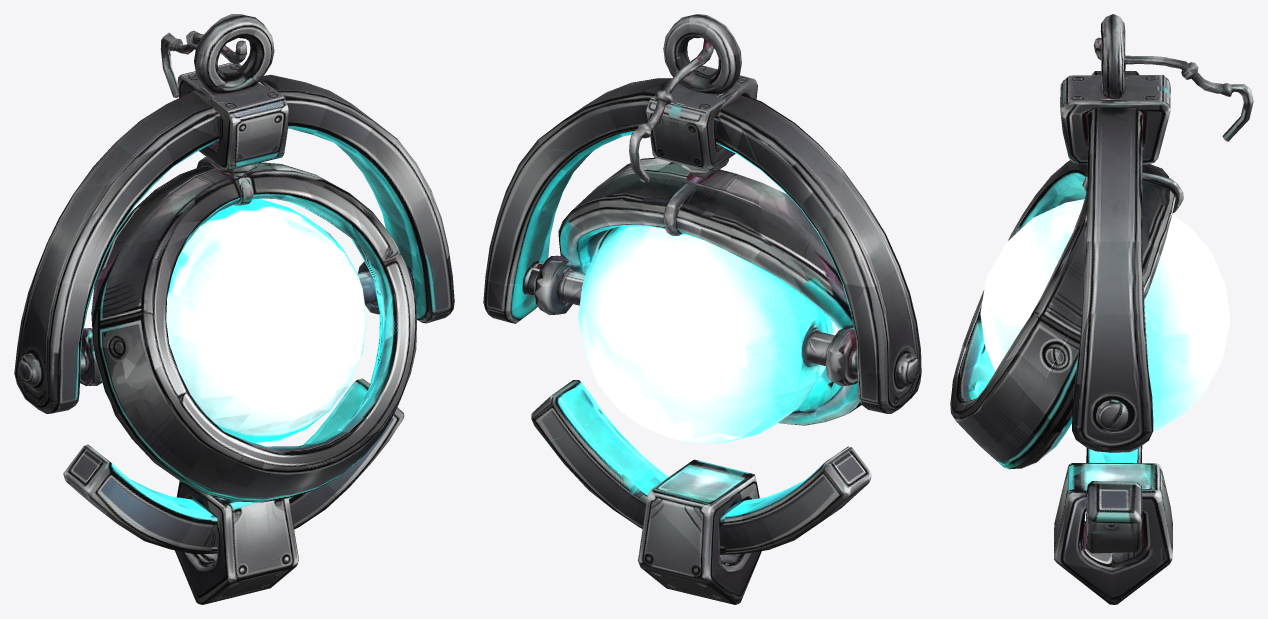
The model's file is magnetar.glb.
The picture shows the model from 3 angles, left to right: view 1: azimuth 30°, elevation 25°; view 2: azimuth 150°, elevation 25°; view 3: azimuth 270°, elevation 25°; orthographic projection.
Bounding box in the file's own units: 0.7715 × 1 × 0.4834.
1 material, 1 textured.
